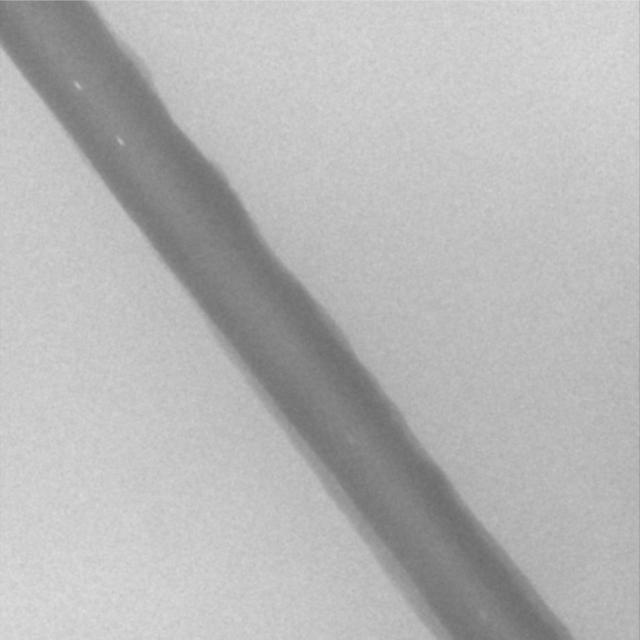air hole: (71, 80, 82, 91), (115, 135, 125, 147)
